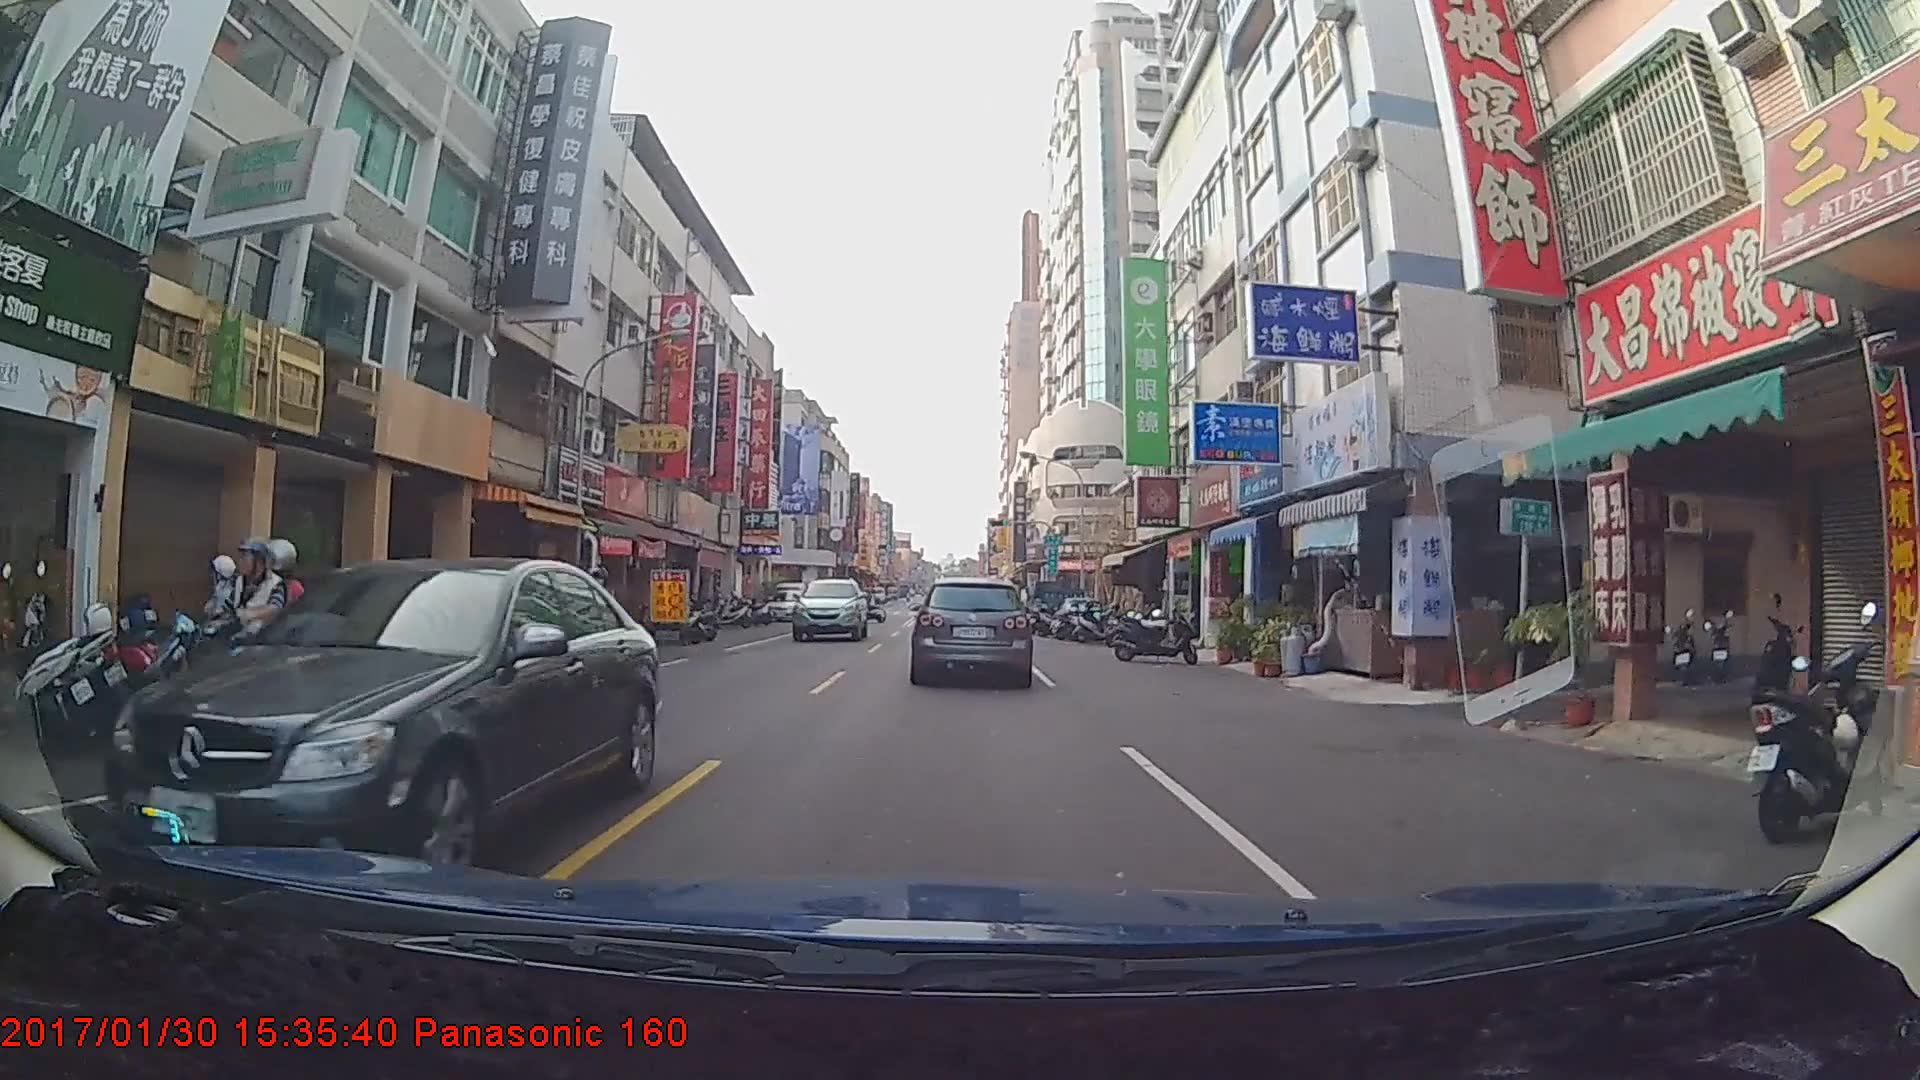rider: (182, 536, 315, 752)
vehicle: (102, 554, 656, 907), (911, 577, 1030, 684), (792, 577, 867, 643), (1024, 574, 1081, 624)
